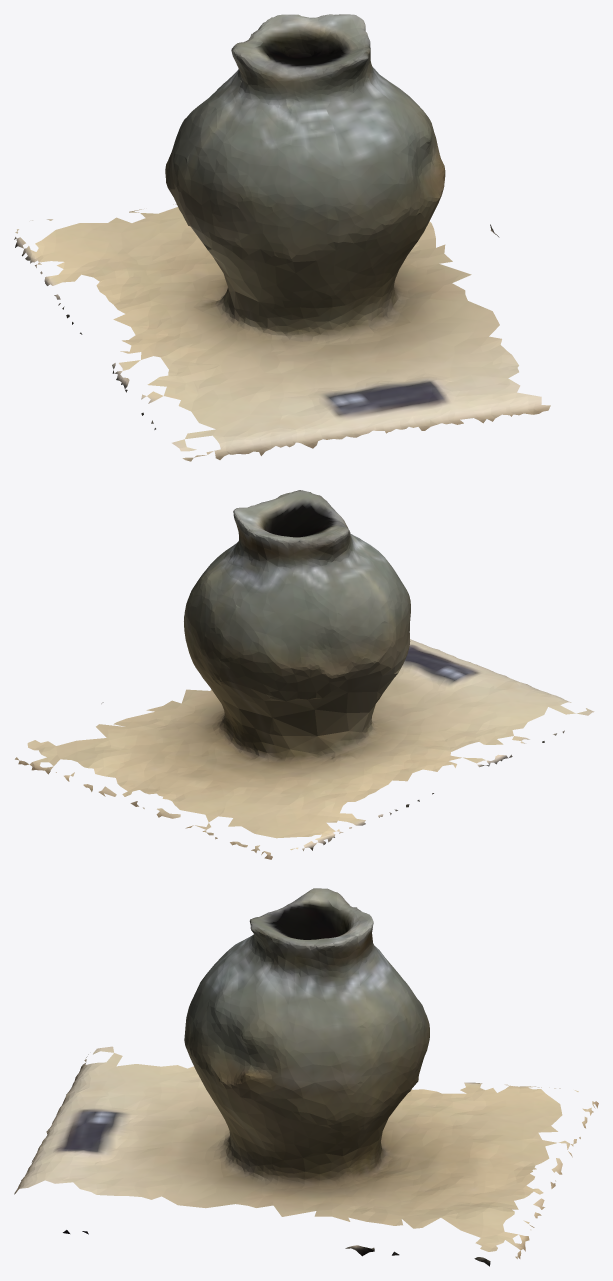
The model's file is dako.glb.
3 views of the same model, one above another, from view 1: azimuth 30°, elevation 25°; view 2: azimuth 150°, elevation 25°; view 3: azimuth 270°, elevation 25° (orthographic). The views are drawn at different scales.
Parts seen in each view (by area): view 1: mesh; view 2: mesh; view 3: mesh.
Part boxes in pixels (x1,y1,x2,y2): mesh: (14, 14, 550, 461); mesh: (15, 490, 594, 859); mesh: (14, 888, 598, 1266).
Size of the model in its own units: 0.2484 by 0.1345 by 0.2841.
1 material, 1 textured.
